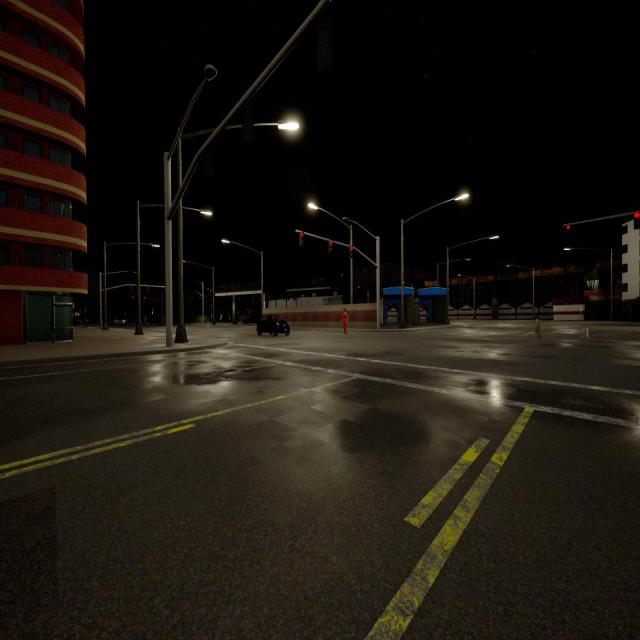Pedestrian: (342, 308, 348, 336), (535, 316, 540, 336)
Traffic_Signs: (580, 307, 582, 310)
Vehicle: (258, 314, 290, 336), (242, 314, 256, 324)
traffic_light: (316, 11, 332, 65), (243, 106, 251, 139), (634, 211, 640, 229), (300, 232, 304, 246), (328, 240, 332, 253), (349, 246, 353, 257), (566, 225, 570, 230), (130, 286, 132, 291), (147, 287, 149, 291), (144, 296, 146, 299), (132, 296, 134, 298)
